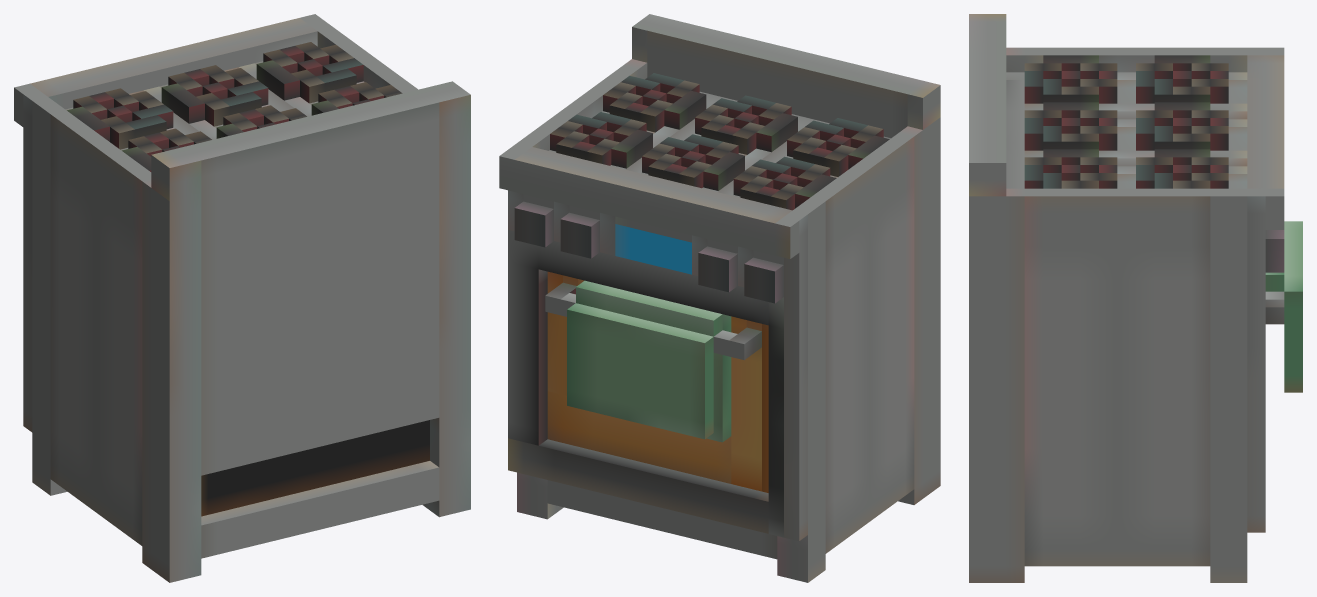
The model's file is Oven_00.obj.
3 renders of one model, left to right at view 1: azimuth 30°, elevation 25°; view 2: azimuth 150°, elevation 25°; view 3: azimuth 270°, elevation 25°, orthographic. The views are drawn at different scales.
Visible parts, largest first — view 1: Oven_00; view 2: Oven_00; view 3: Oven_00.
Part boxes in pixels (x1,y1,x2,y2): Oven_00: (14, 14, 470, 582); Oven_00: (499, 14, 940, 582); Oven_00: (969, 14, 1302, 582).
Bounding box in the file's own units: 0.95 × 1.25 × 0.9.
